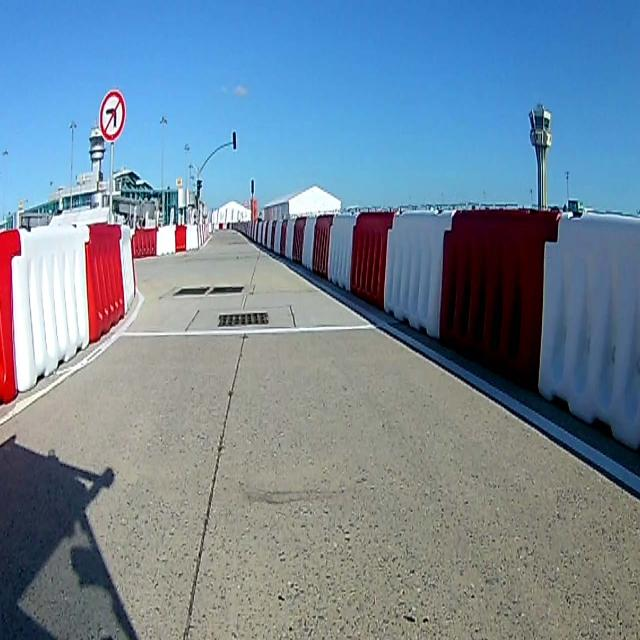soladonulmez: (99, 92, 128, 143)
